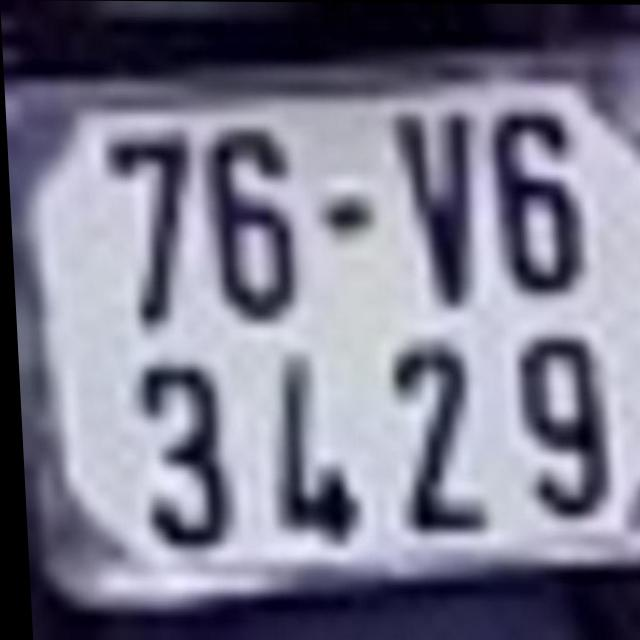2: (376, 325, 487, 539)
3: (123, 357, 236, 556)
4: (252, 345, 358, 547)
6: (199, 122, 302, 324), (488, 105, 588, 302)
7: (100, 130, 198, 330)
9: (500, 322, 609, 518)
V: (388, 106, 483, 315)
